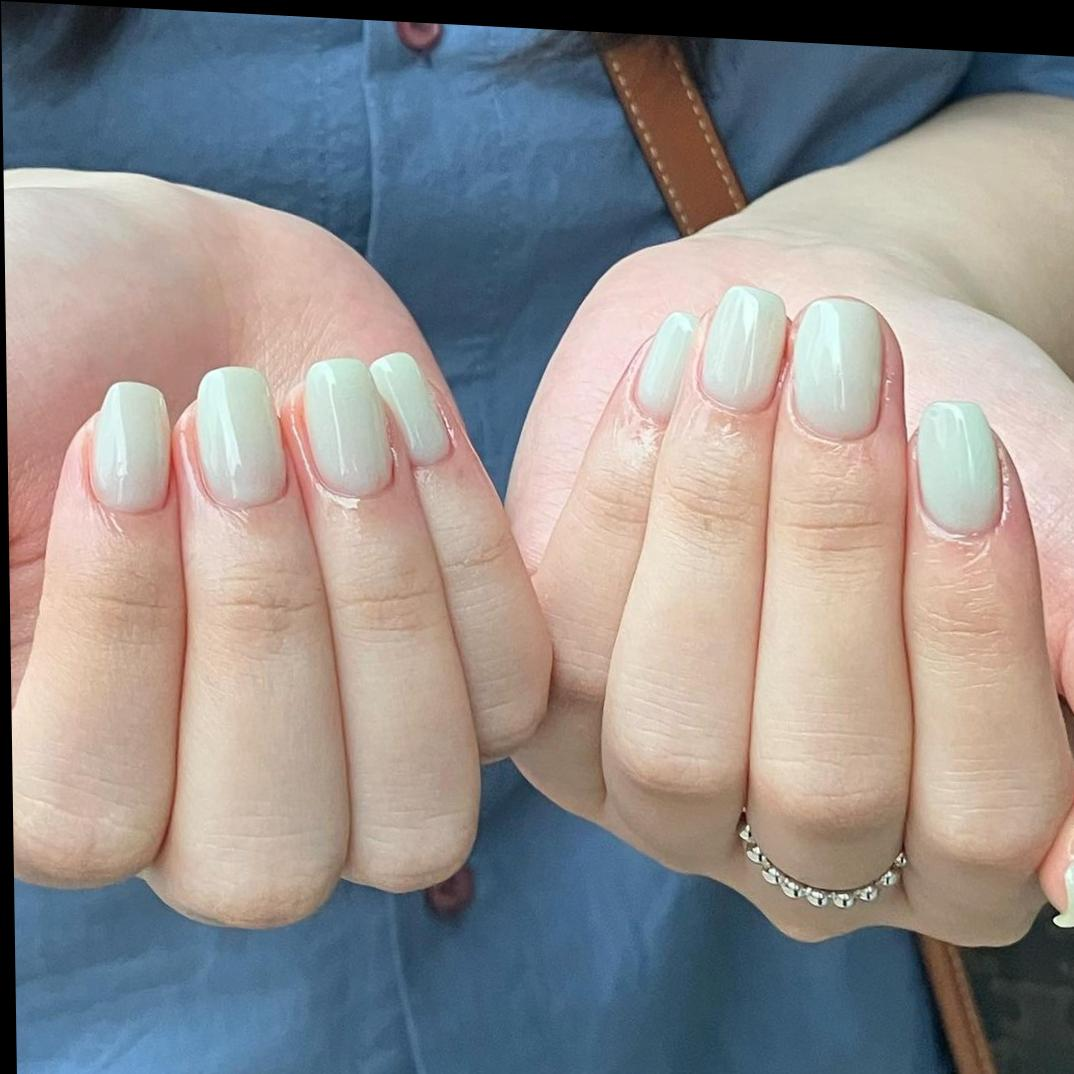nail: (787, 291, 886, 444), (194, 361, 288, 510), (302, 352, 395, 499), (914, 395, 1005, 540), (695, 280, 789, 416), (86, 375, 171, 515), (370, 347, 455, 465), (632, 306, 699, 420)
